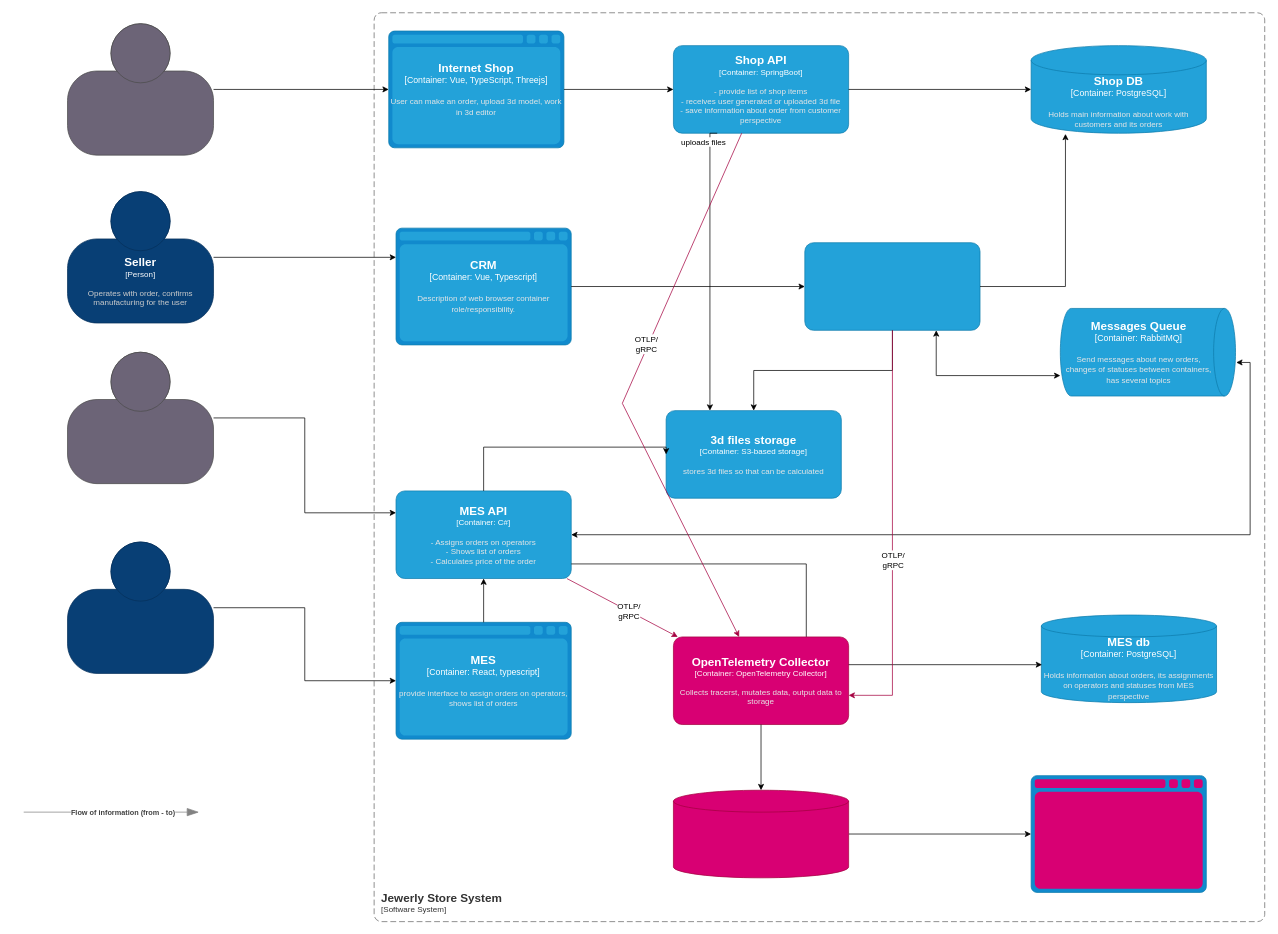
This 1278x934 diagram has some shape labels left out. The shapes that lost their labels are listed below. From the top down, each one's centre as x and y in pixels, then its label:
At [140,89]: "Customer [Person] Description of external person.".
At [892,286]: "CRM API [Container: SpringBoot] Description of container role/responsibility.".
At [140,417]: "API user [Person] Description of external person.".
At [140,607]: "Operator [Person] Takes order in work, manufactures jewerly".
At [761,833]: "Logs db [Container: ElasticSearch] Holds information about Logs, Traces".
At [1118,833]: "Kibana [Container: Kibana] provides dashboards for traces & logs".
